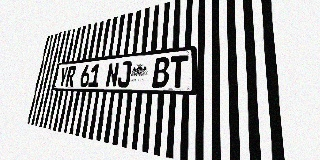1: (88, 64, 101, 87)
6: (79, 64, 92, 87)
B: (152, 57, 170, 87)
J: (117, 61, 132, 87)
N: (105, 62, 119, 87)
R: (65, 66, 77, 87)
T: (169, 55, 188, 87)
Y: (58, 67, 69, 87)
